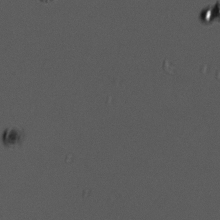Dead Cell: (2, 125, 23, 144)
Living Cell: (199, 5, 215, 25)
